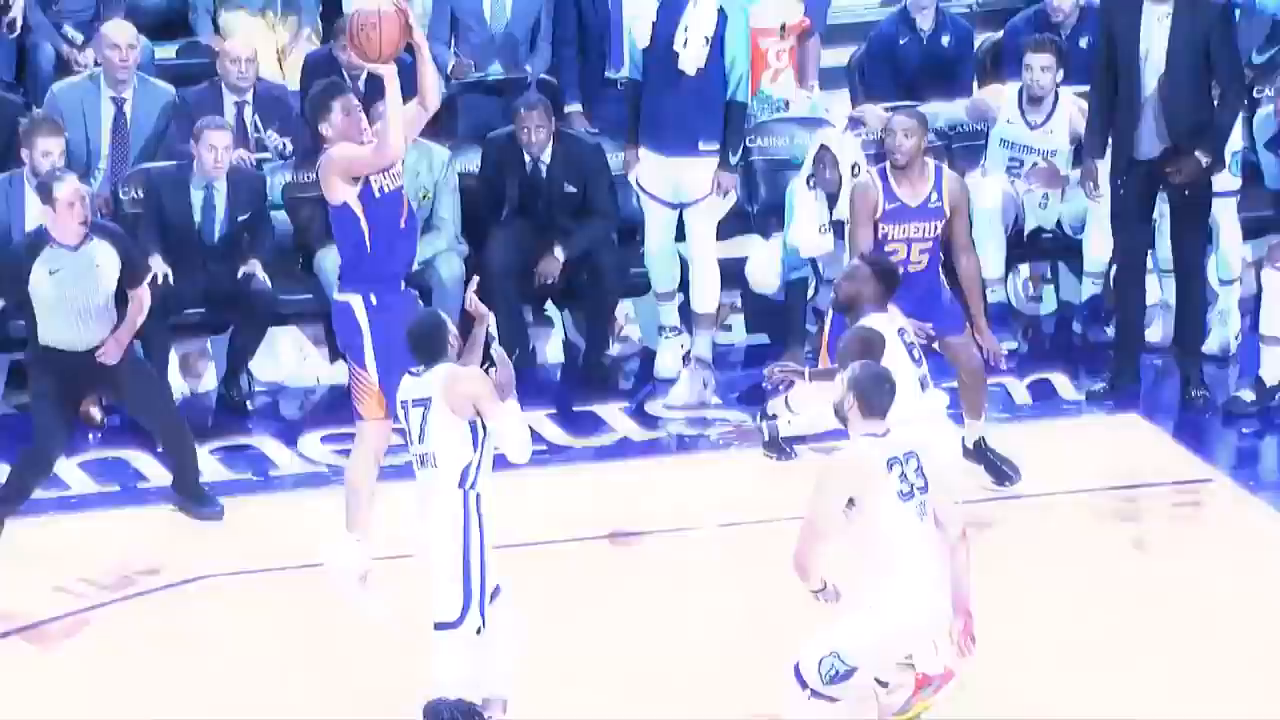ball: (341, 2, 415, 64)
